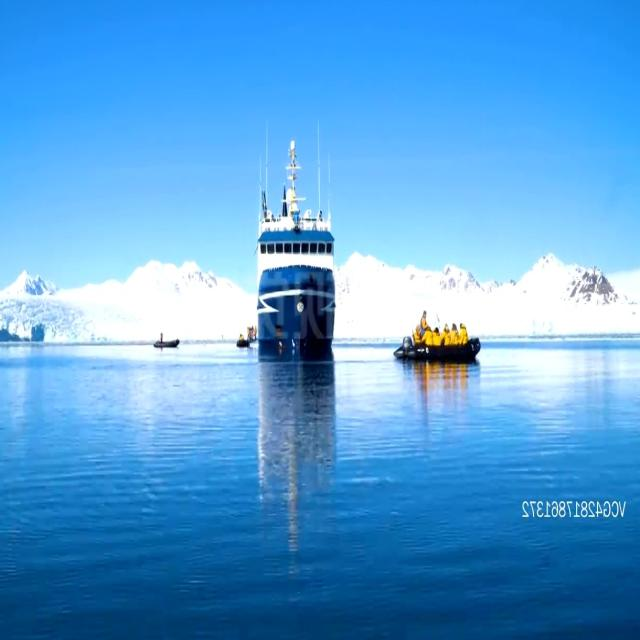houseboat: (396, 308, 480, 368), (153, 330, 183, 349), (235, 334, 249, 348)
passenger ship: (253, 139, 337, 358)
